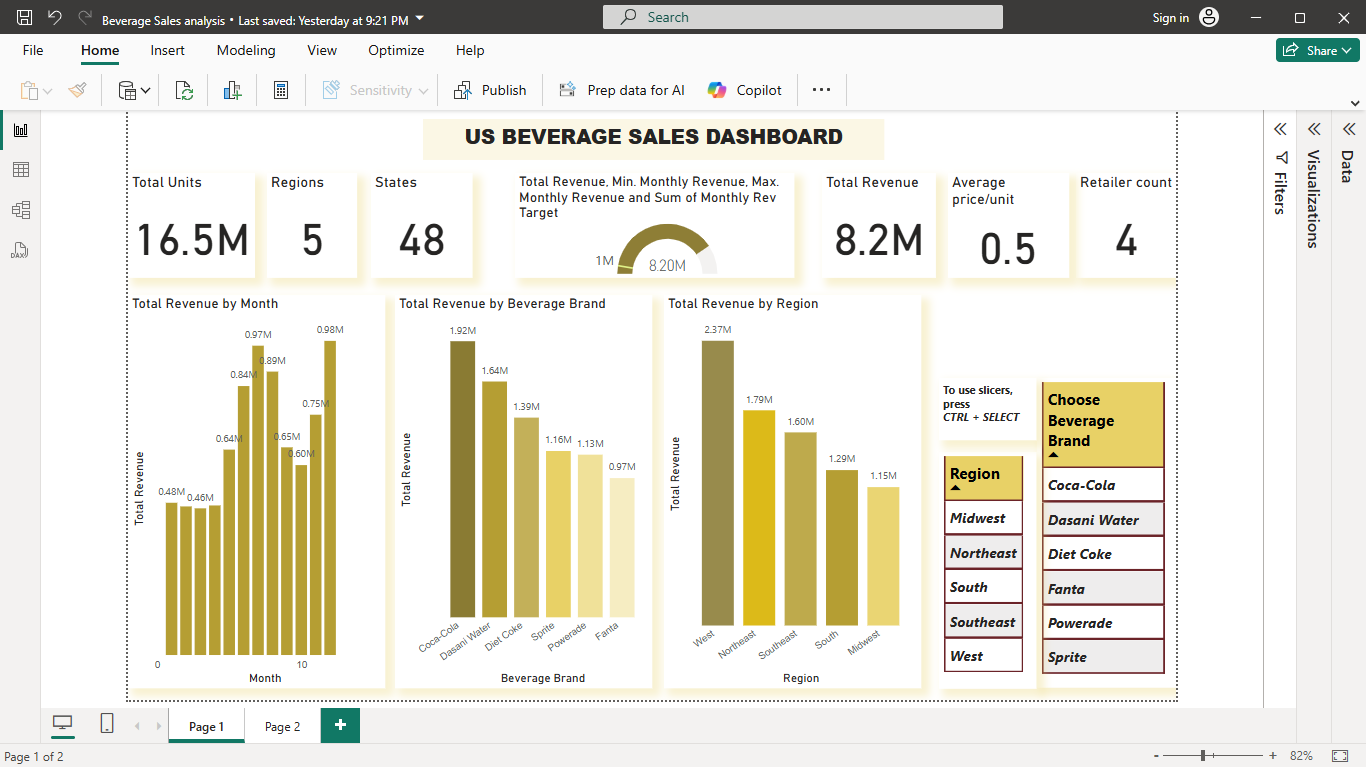

The dashboard page shown, as its layout file describes it:
{"tool":"powerbi","page":{"name":"Page 1","canvas":[1280,720],"ordinal":0},"visuals":[{"type":"textbox","box":[360.6,11,562.9,49.5],"z":0},{"type":"group","id":"g1","title":"Group 1","box":[989.6,327.6,290.4,378.5],"z":0,"group":"g2"},{"type":"tableEx","fields":{"Values":["Data.Beverage Brand"]},"box":[1108.6,327.6,171.4,378.5],"z":0,"group":"g1"},{"type":"card","title":"Total Units","fields":{"Values":["Sum(Data.Units Sold)"]},"box":[0,77,155,128.1],"z":1000,"group":"g3"},{"type":"clusteredColumnChart","fields":{"Y":["Data.Total Revenue"],"Category":["Data.Month"]},"box":[0,225.7,314,480.3],"z":1000},{"type":"textbox","box":[989.6,327.6,119.2,76.4],"z":1000,"group":"g2"},{"type":"card","title":"Regions","fields":{"Values":["Count(Data.Region)"]},"box":[169.6,77,109.8,128.1],"z":2000,"group":"g3"},{"type":"clusteredColumnChart","fields":{"Y":["Data.Total Revenue"],"Category":["Data.Beverage Brand"]},"box":[326.2,225.7,313.8,480.3],"z":2000},{"type":"group","id":"g2","title":"Group 2","box":[989.6,327.6,290.4,378.5],"z":3000},{"type":"group","id":"g3","title":"Group 3","box":[0,76.9,1280.1,128.3],"z":4000},{"type":"card","title":"States","fields":{"Values":["Count(Data.State)"]},"box":[296.5,76.9,124.5,128.1],"z":4000,"group":"g3"},{"type":"clusteredColumnChart","fields":{"Category":["Data.Region"],"Y":["Data.Total Revenue"]},"box":[653.8,225.7,313.8,480.3],"z":5000},{"type":"card","title":"Retailer count","fields":{"Values":["Count(Data.Retailer)"]},"box":[1156.9,77,123.3,128.1],"z":6000,"group":"g3"},{"type":"card","title":"Total Revenue","fields":{"Values":["Data.Total Revenue"]},"box":[846.9,76.9,139.1,128.1],"z":7000,"group":"g3"},{"type":"card","title":"Average price/unit","fields":{"Values":["Data.Average Units Sold"]},"box":[1000.7,77,147.7,128.1],"z":8000,"group":"g3"},{"type":"tableEx","fields":{"Values":["Data.Region"]},"box":[989.6,417.4,119.2,288.7],"z":10000,"group":"g1"},{"type":"gauge","fields":{"Y":["Data.Total Revenue"],"MinValue":["Monthly Targets.Min. Monthly Revenue"],"MaxValue":["Monthly Targets.Max. Monthly Revenue"],"TargetValue":["Sum(Monthly Targets.Monthly Rev Target)"]},"box":[472.1,76.9,341,128.1],"z":11000,"group":"g3"}]}

Visuals, with their boxes on the page's 1280x720 design canvas (x1, y1, x2, y2). These are canvas units, not pixel positions in the 1366x767 screenshot, which may show the page scaled, cropped or inside an application window:
textbox: {"left": 361, "top": 11, "right": 924, "bottom": 60}
"Group 1" group: {"left": 990, "top": 328, "right": 1280, "bottom": 706}
tableEx - Data.Beverage Brand: {"left": 1109, "top": 328, "right": 1280, "bottom": 706}
"Total Units" card: {"left": 0, "top": 77, "right": 155, "bottom": 205}
clusteredColumnChart - Data.Total Revenue x Data.Month: {"left": 0, "top": 226, "right": 314, "bottom": 706}
textbox: {"left": 990, "top": 328, "right": 1109, "bottom": 404}
"Regions" card: {"left": 170, "top": 77, "right": 279, "bottom": 205}
clusteredColumnChart - Data.Total Revenue x Data.Beverage Brand: {"left": 326, "top": 226, "right": 640, "bottom": 706}
"Group 2" group: {"left": 990, "top": 328, "right": 1280, "bottom": 706}
"Group 3" group: {"left": 0, "top": 77, "right": 1280, "bottom": 205}
"States" card: {"left": 296, "top": 77, "right": 421, "bottom": 205}
clusteredColumnChart - Data.Region x Data.Total Revenue: {"left": 654, "top": 226, "right": 968, "bottom": 706}
"Retailer count" card: {"left": 1157, "top": 77, "right": 1280, "bottom": 205}
"Total Revenue" card: {"left": 847, "top": 77, "right": 986, "bottom": 205}
"Average price/unit" card: {"left": 1001, "top": 77, "right": 1148, "bottom": 205}
tableEx - Data.Region: {"left": 990, "top": 417, "right": 1109, "bottom": 706}
gauge - Data.Total Revenue x Monthly Targets.Min. Monthly Revenue: {"left": 472, "top": 77, "right": 813, "bottom": 205}
